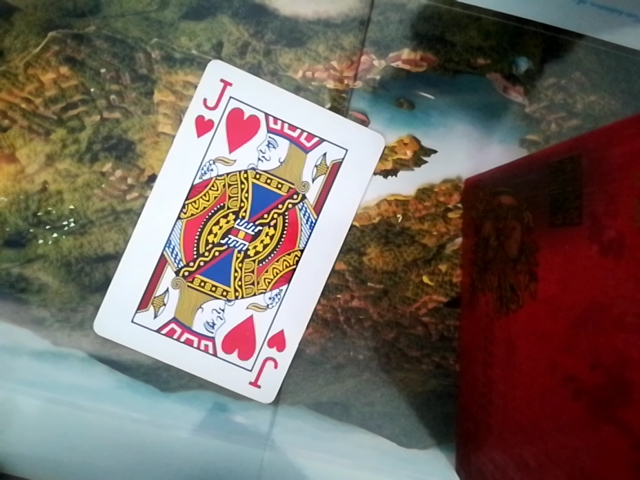hx j: (93, 51, 380, 407)
